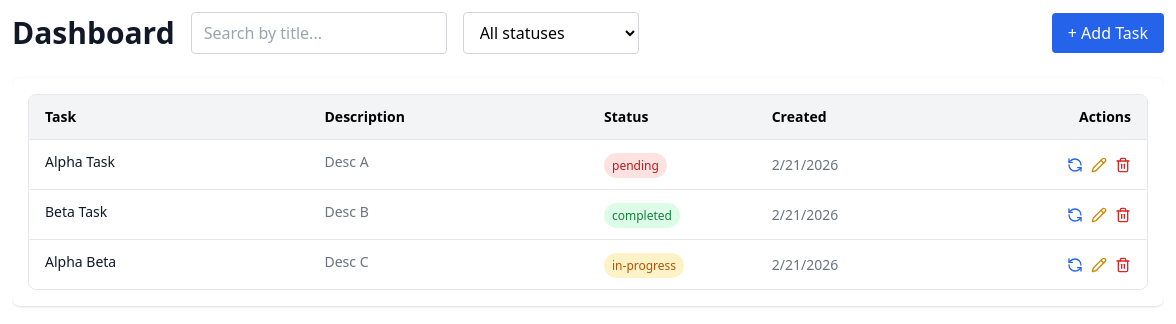
Scenario: Dashboard interactions › filters tasks by search query
Step 1. Type "Alpha" into the field with placeholder "Search by title..." → (319, 33), box [191,12,447,54]
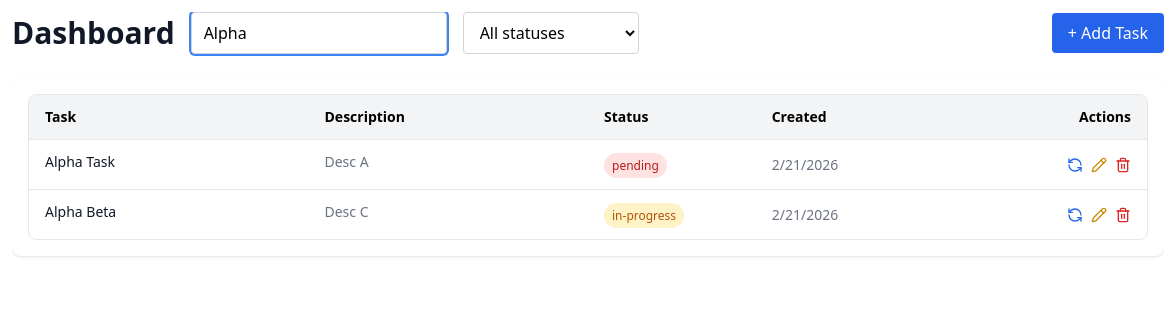
Expected: the text "Alpha Task" is shown, [45,152,115,172]
Now the text "Beta Task" is gone
